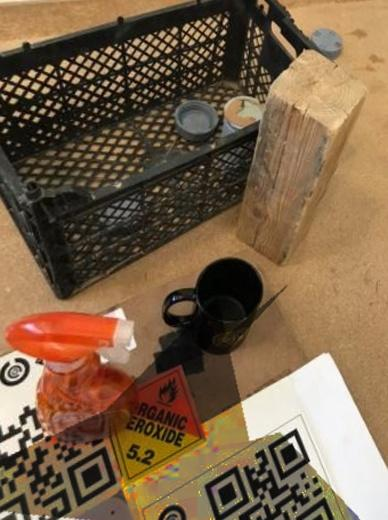organic-peroxide: (99, 358, 210, 489)
